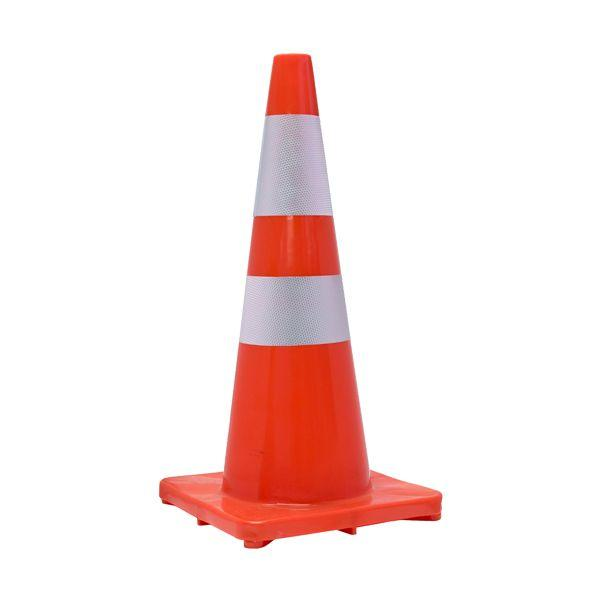traffic_cone: (158, 52, 443, 549)
